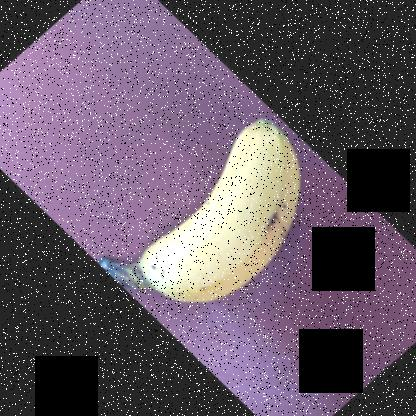freshripe: (117, 102, 315, 318)
